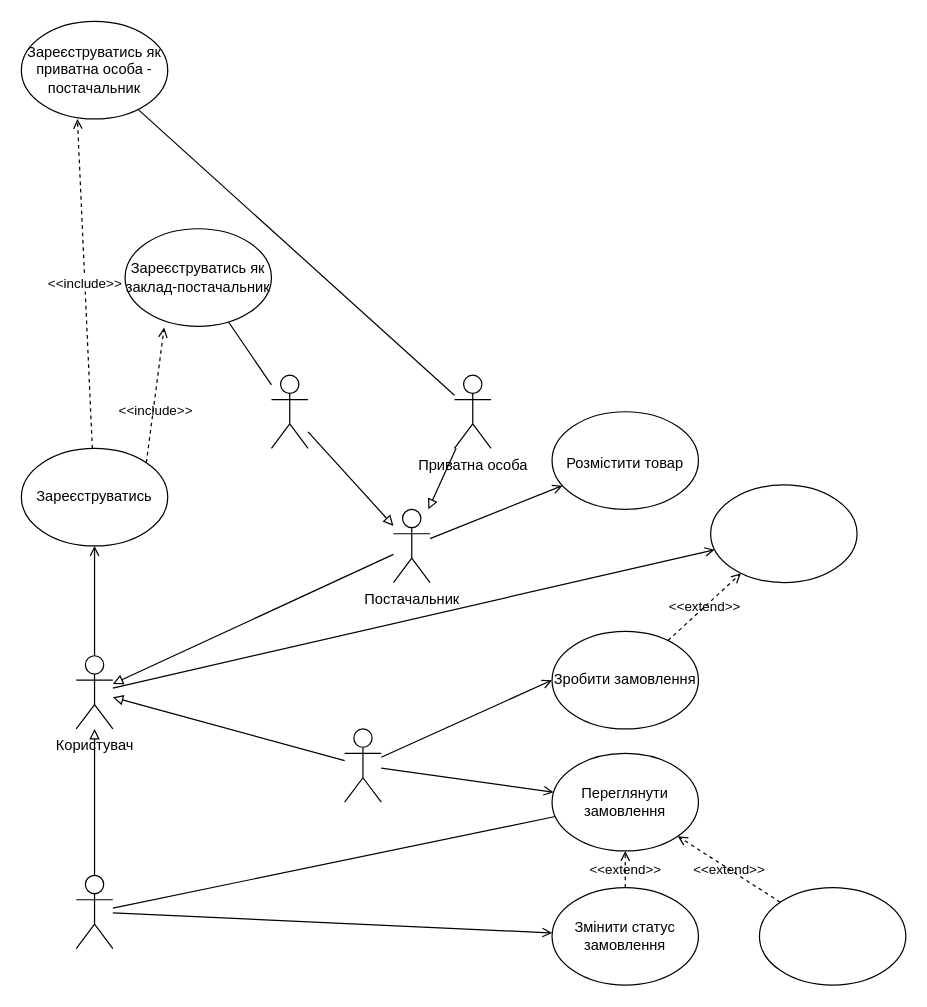
Image size: 927x1007. Some labels were removed from this diagram. The shapes that lost their labels are listed below. From the top down, each one's centre as x and y in pixels, then its label:
At (x=289, y=411): "Заклад громадського харчування".
At (x=783, y=533): "Переглянути каталог".
At (x=362, y=765): "Покупець".
At (x=94, y=911): "Адміністратор".
At (x=832, y=935): "Скасувати замовлення".
